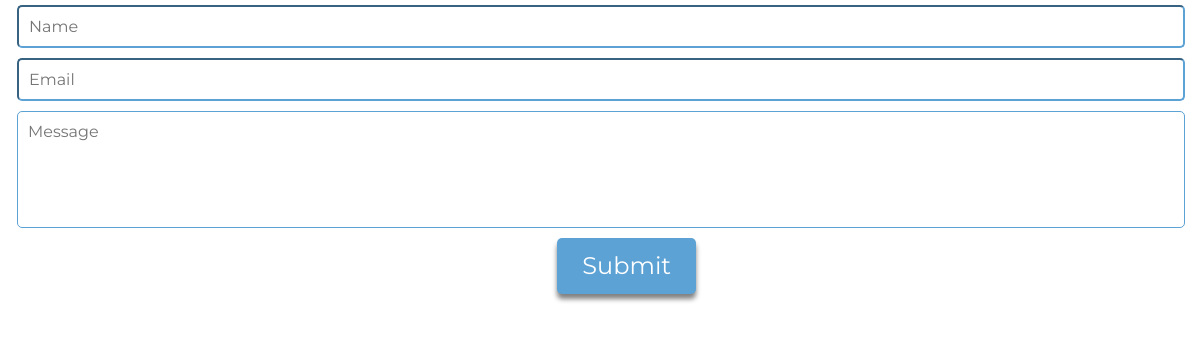
Test: button submits form
Click the button with test id "button" at (627, 266), box [557,238,696,294]
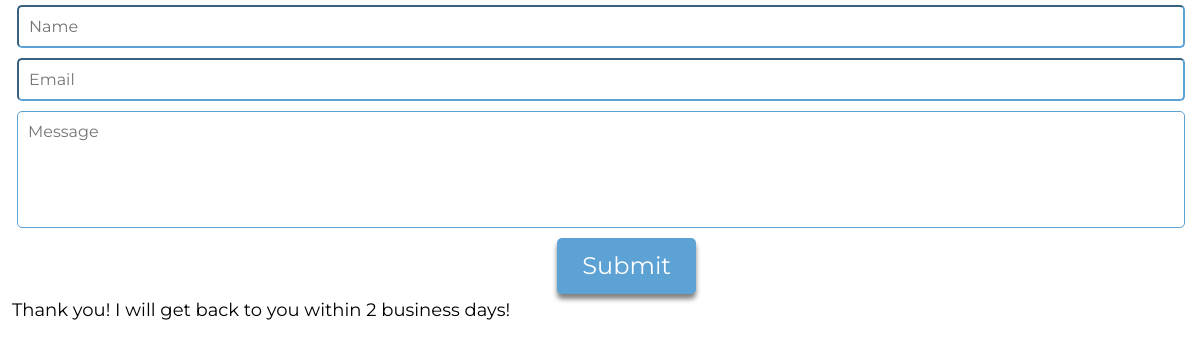
Now the text "Thank you! I will get back to you within 2 business days!" is shown, box [12,299,510,321]
